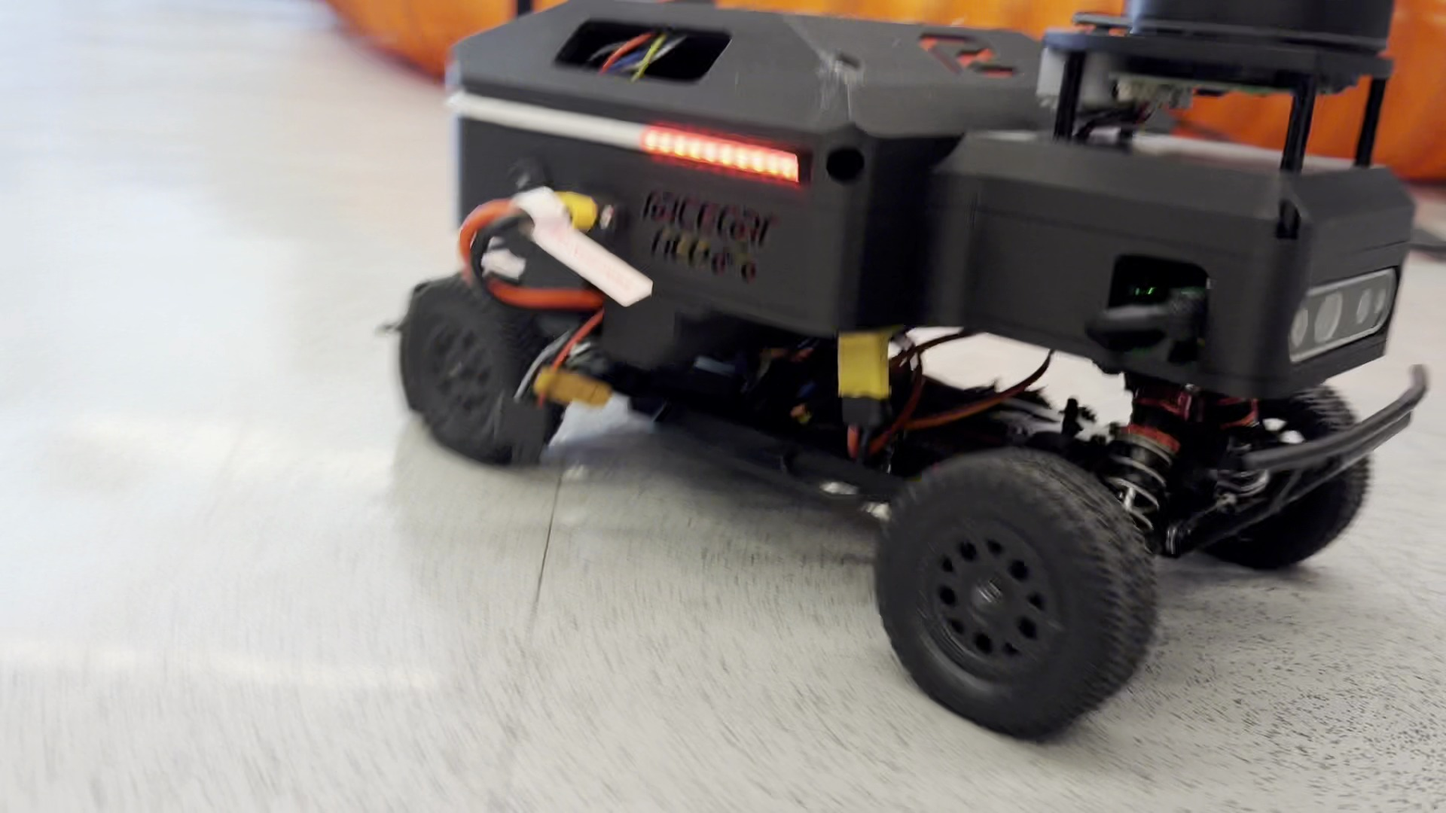racecar: (436, 4, 1427, 740)
